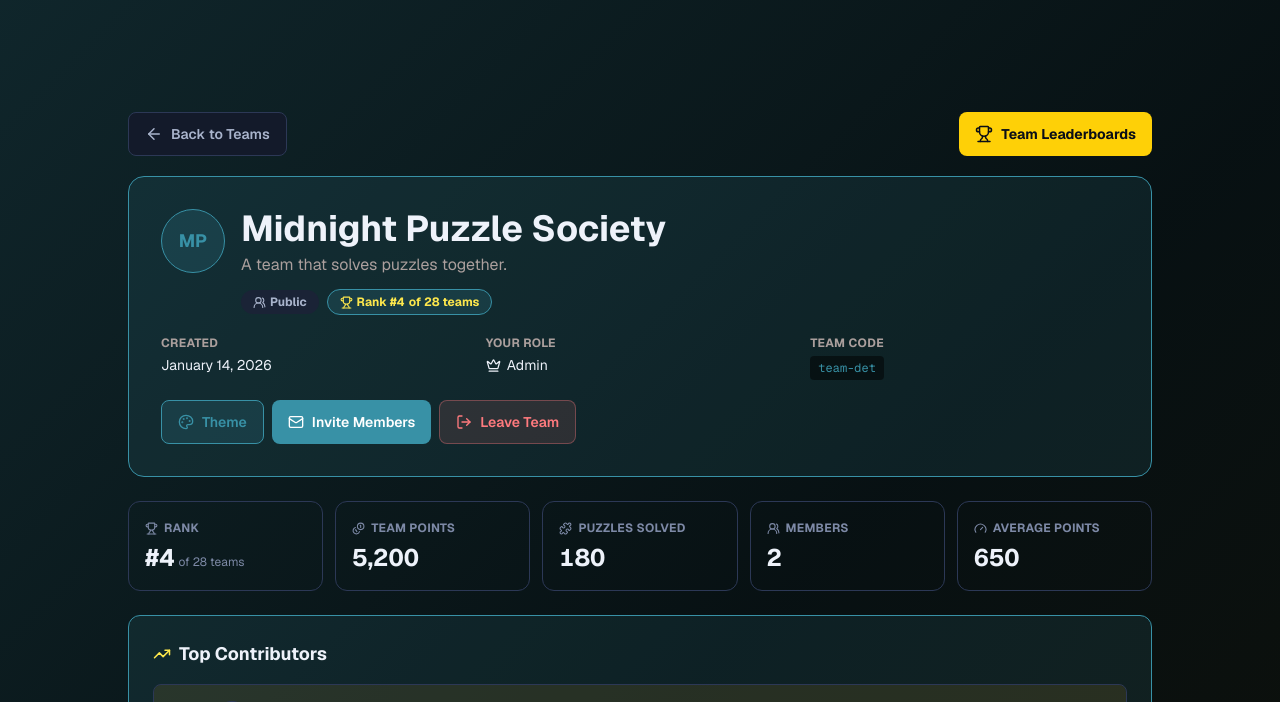
Test case: Team Detail page — action deck and theme picker (Pass 16B.1) › 77. failed theme selection preserves exact fallback copy
The image size is (1280, 702).
Click the button "Theme" at {"x": 212, "y": 422}, box [161,400,264,444]
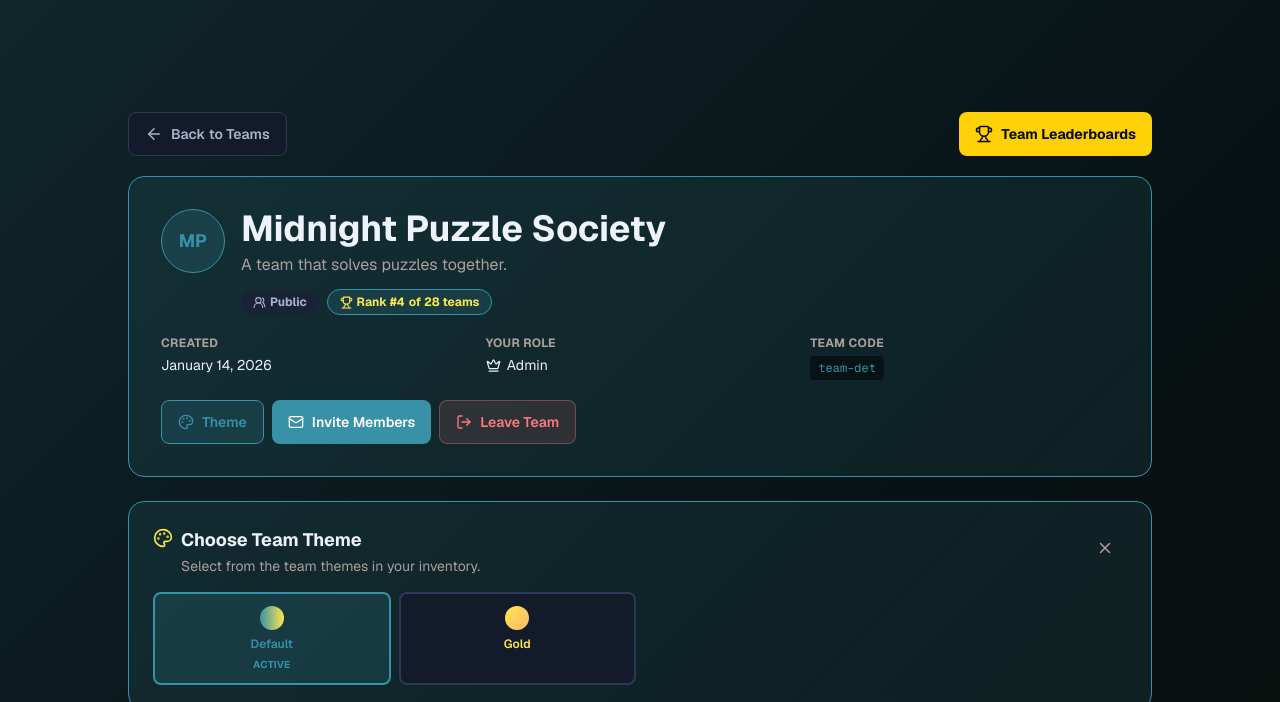
Click the button with test id "team-theme-option-gold" at {"x": 517, "y": 638}, box [398,592,636,685]
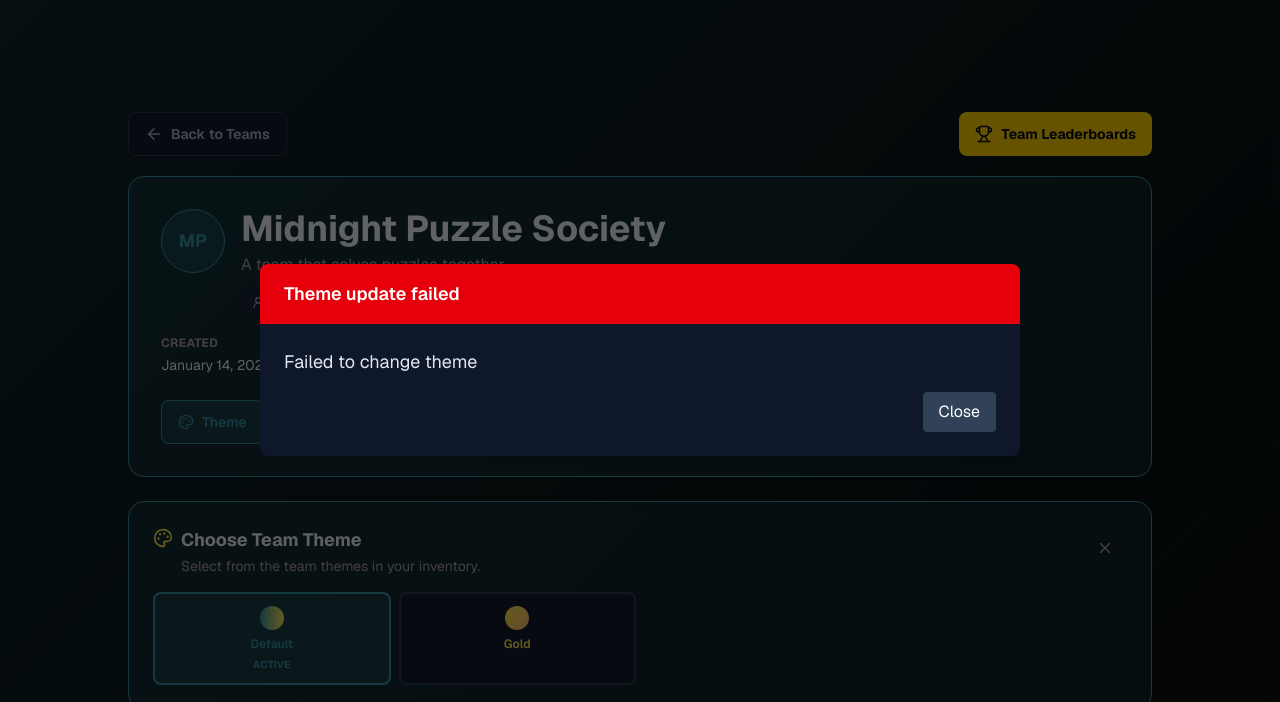
Check: the heading "Theme update failed" is shown, box [284,282,460,305]
Check: the text "Failed to change theme" is shown, box [284,350,477,373]
